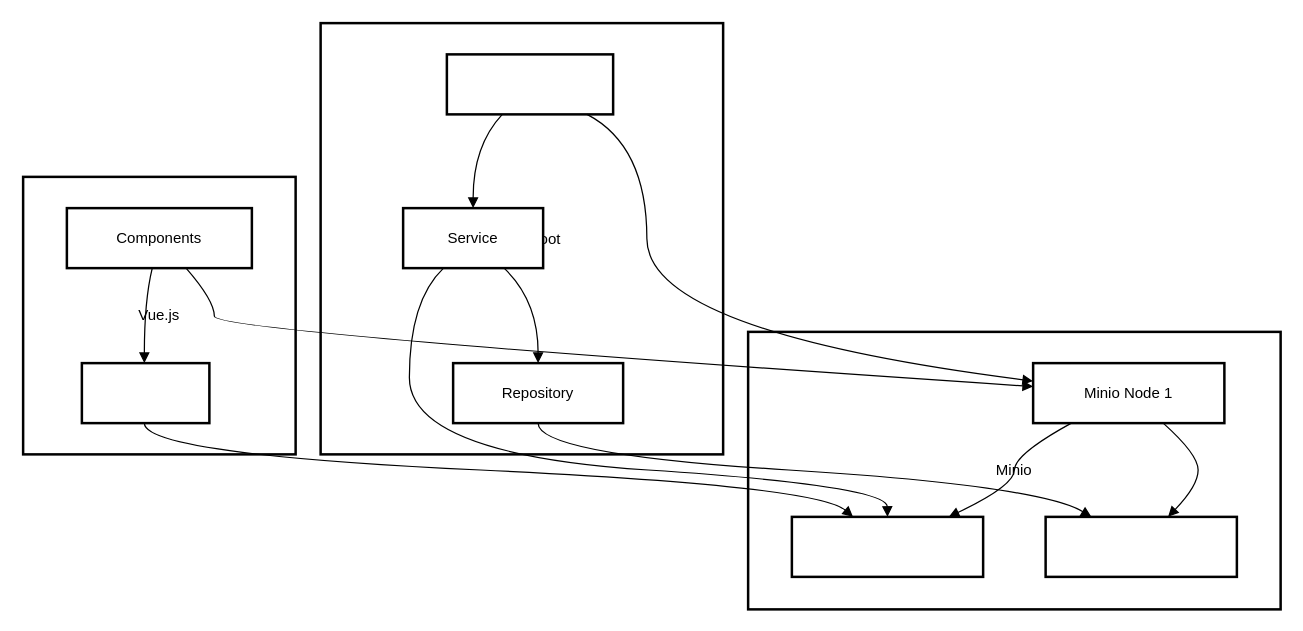
Some shapes in this 1303 by 631 pixel diagram are drawn without their labels. The shapes that lost their labels are listed below. From the top down, each one's centre as x and y in pixels, then its label:
the point at 529,83: Controller
the point at 145,392: Views
the point at 887,546: Minio Node 2
the point at 1141,546: Minio Node 3
